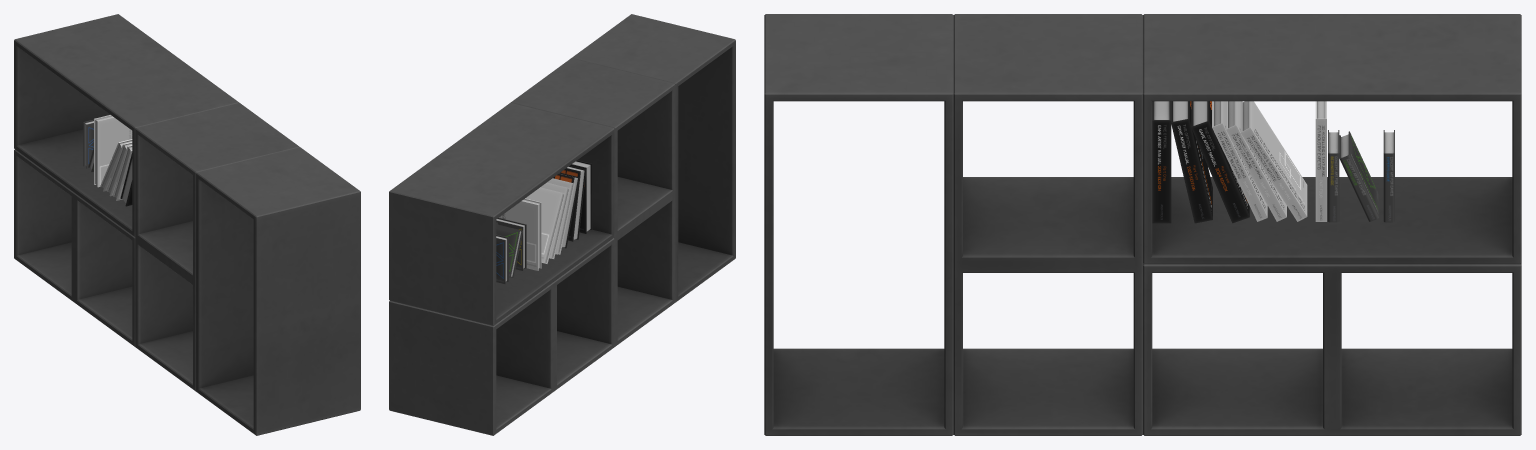
The model's file is office-shelf.glb.
The picture shows the model from 3 angles, left to right: view 1: azimuth 30°, elevation 25°; view 2: azimuth 150°, elevation 25°; view 3: azimuth 270°, elevation 25°; orthographic projection. The views are drawn at different scales.
Visible parts, largest first — view 1: office-shelf; view 2: office-shelf; view 3: office-shelf.
Part boxes in pixels (x1,y1,x2,y2): office-shelf: (14, 14, 360, 435); office-shelf: (389, 14, 735, 435); office-shelf: (764, 14, 1521, 435).
Size of the model in its own units: 0.5 by 1 by 2.
Materials: 5 (5 with a texture image).
